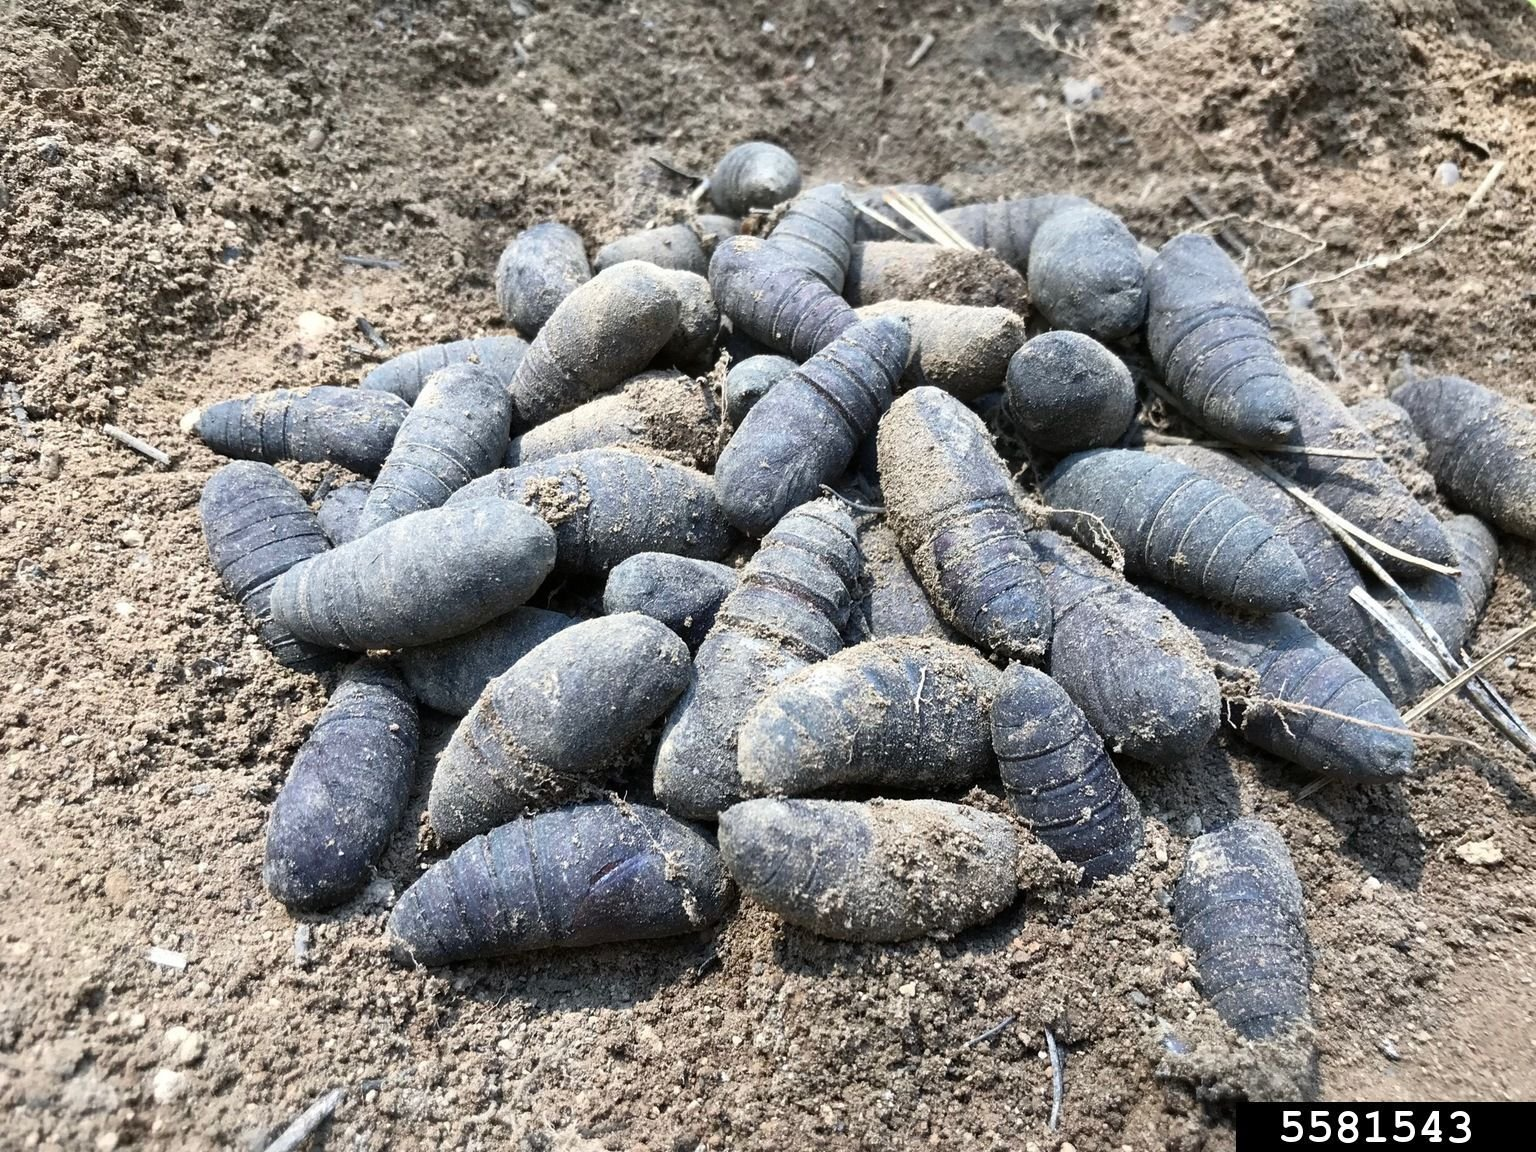Elk: (254, 241, 1370, 925)
